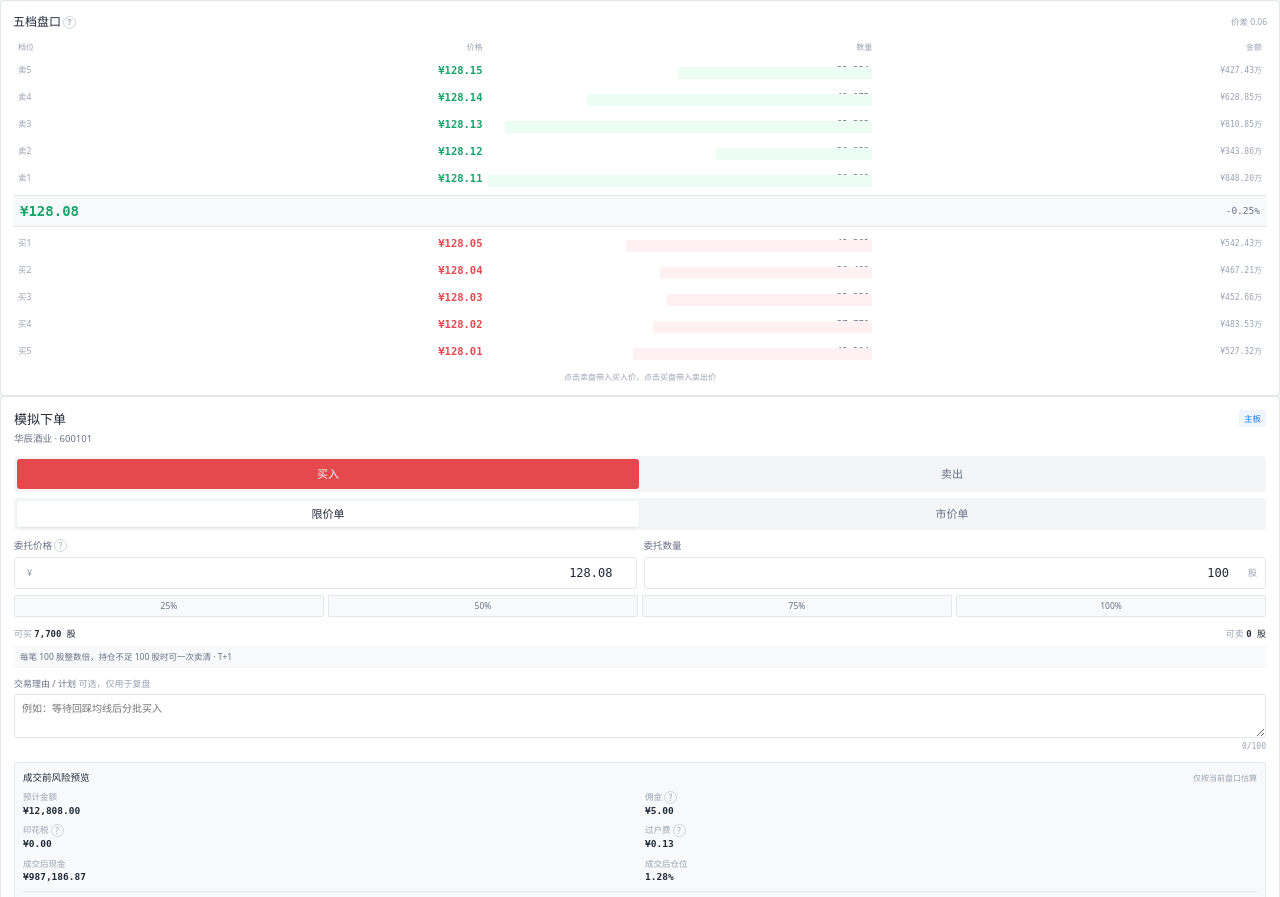
broker interface components › fills the limit price and side when a quote level is clicked
Click the button "卖1 ¥128.11 66,209 ¥848.20万": click(640, 178) [13,165,1267,192]
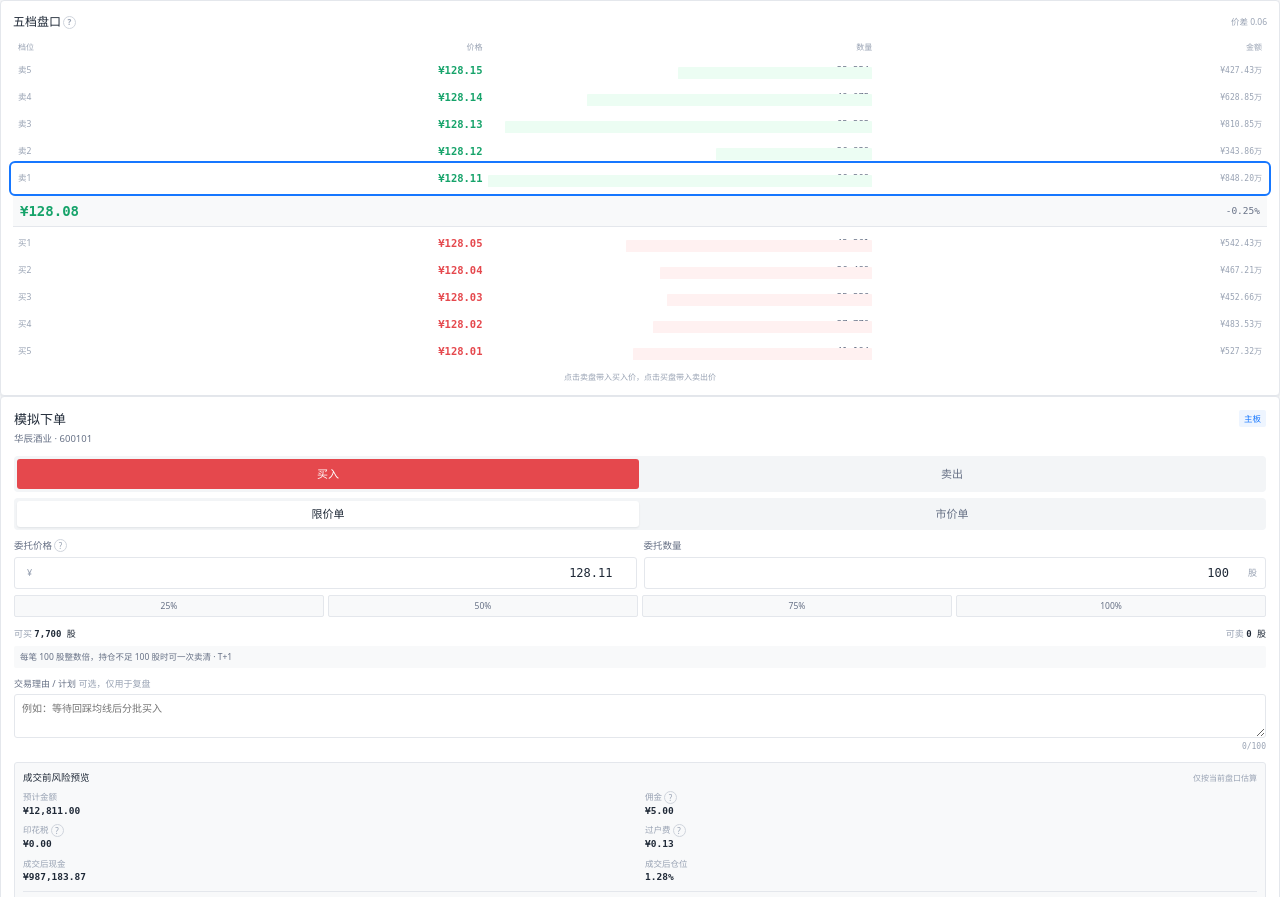
Expected: the button "买入" is shown, [17,459,639,489]
Now the number field named "委托价格" holds "128.11", box [32,564,628,582]
